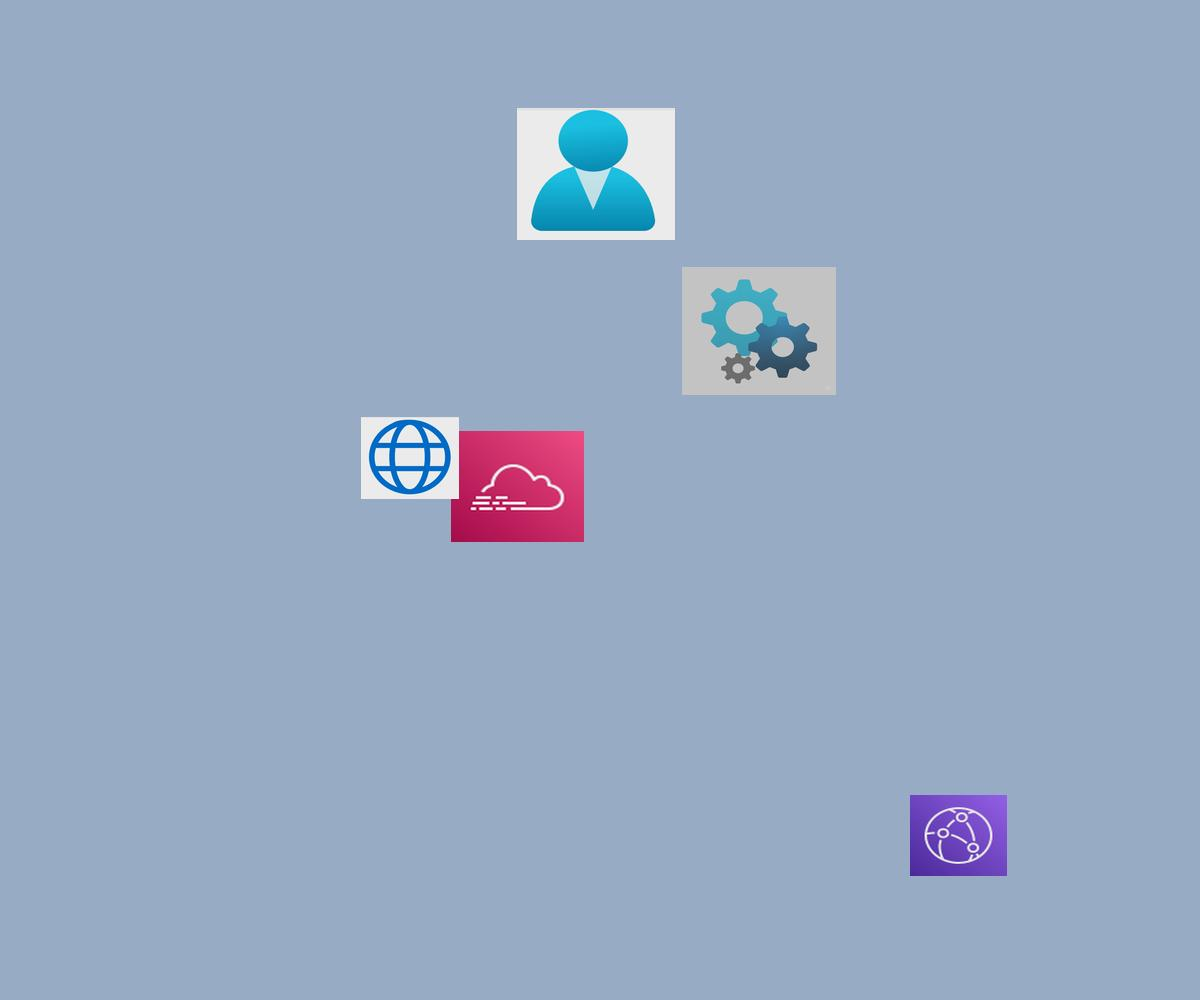AWS-CloudFront: (910, 795, 1007, 876)
AWS-CloudTrail: (451, 431, 584, 542)
Azure_api: (682, 267, 836, 395)
Azure_http: (361, 417, 459, 499)
Azure_users: (517, 108, 675, 240)
